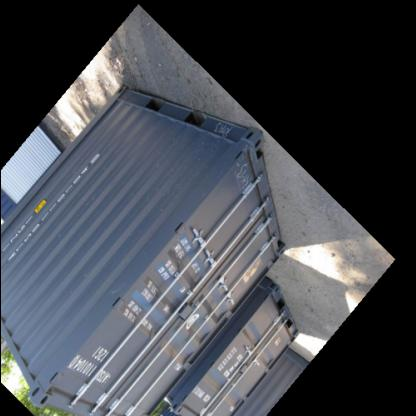Damage: (235, 160, 254, 194), (206, 120, 234, 140), (108, 279, 126, 305)
